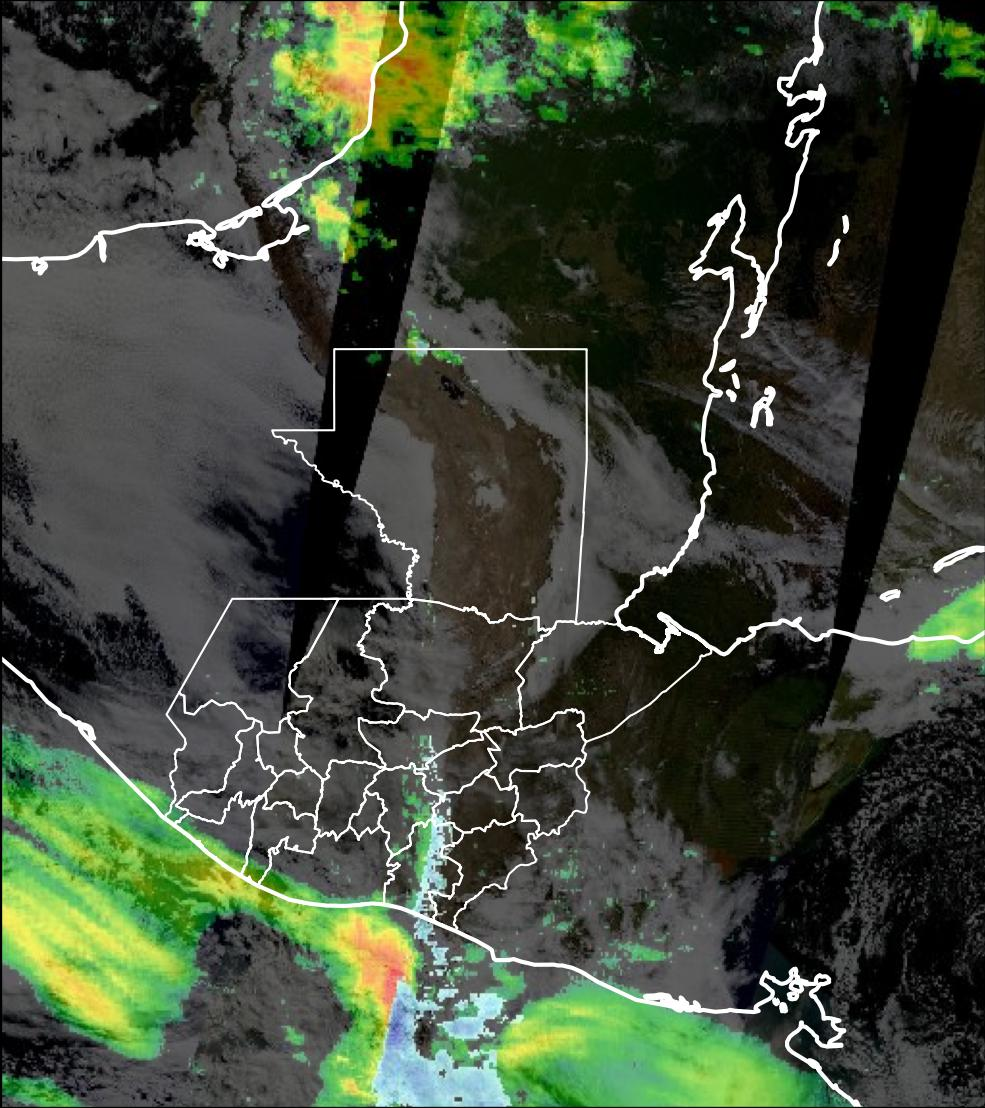precipitacion: (267, 3, 427, 157), (340, 912, 395, 1022)
